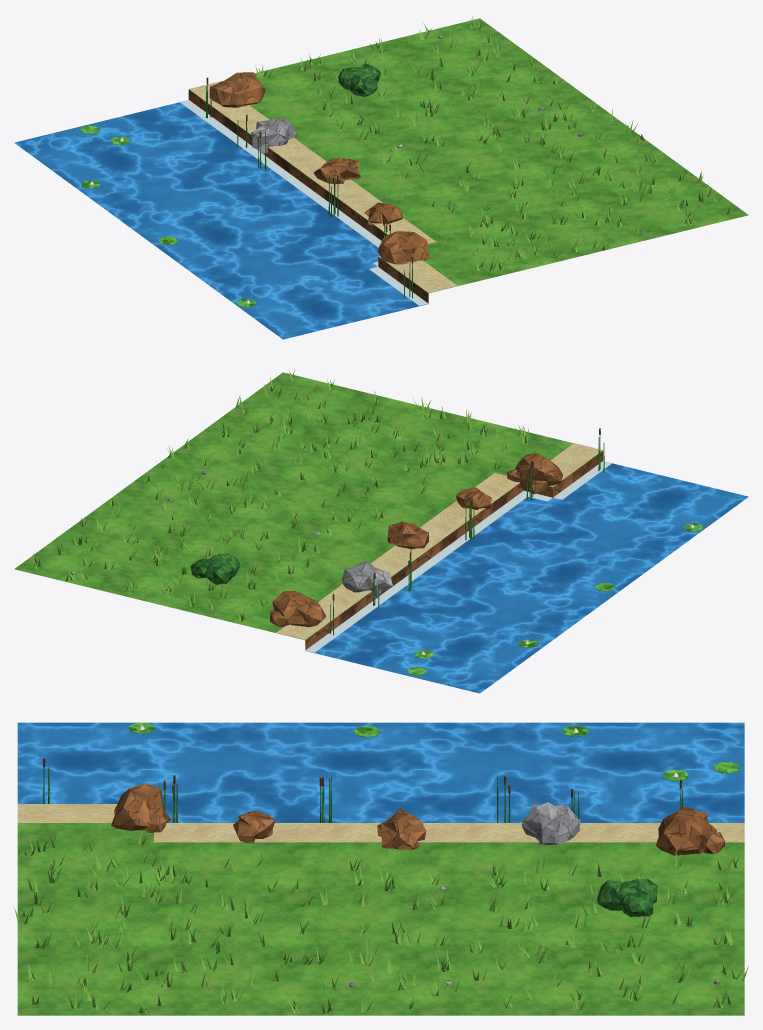
The model's file is chunk_4_8.glb.
3 renders of one model, top to bottom at view 1: azimuth 30°, elevation 25°; view 2: azimuth 150°, elevation 25°; view 3: azimuth 270°, elevation 25°, orthographic. The views are drawn at different scales.
Parts seen in each view (by area): view 1: chunk_4_8; view 2: chunk_4_8; view 3: chunk_4_8.
Boxes of the visible parts, x1,y1,x2,y2 form: chunk_4_8: (14,16,748,339); chunk_4_8: (14,369,748,693); chunk_4_8: (14,722,748,1015).
Bounding box in the file's own units: 16.08 × 1.47 × 16.18.
Materials: 15 (12 with a texture image).
